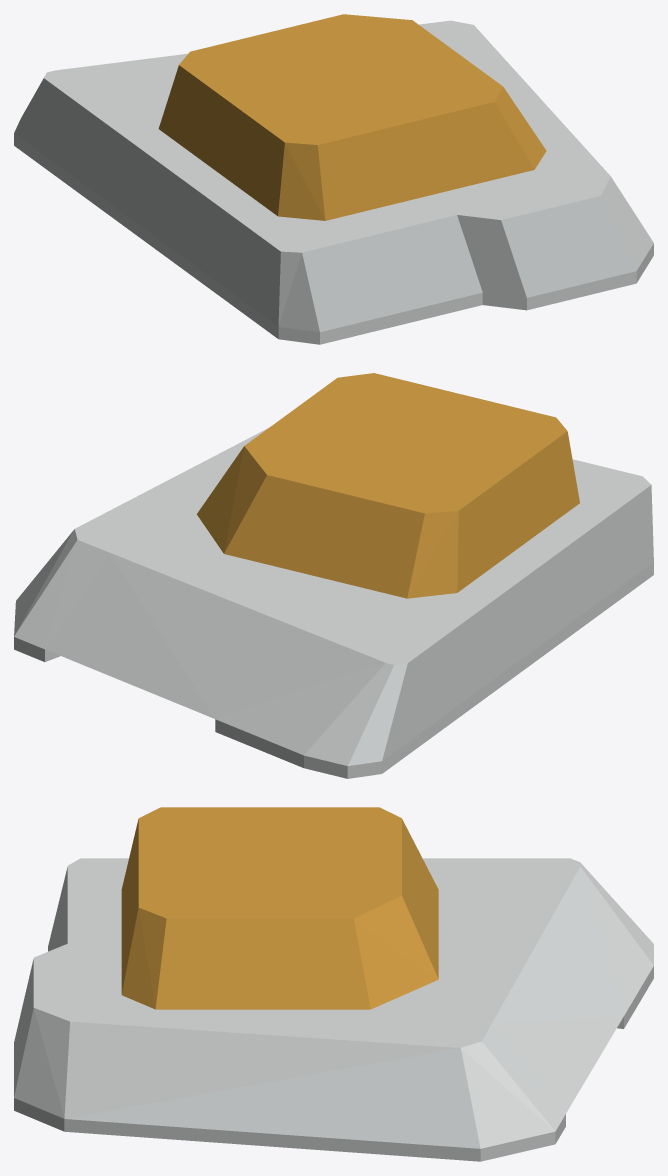
File: rx78_object_027-lib.dae
The picture shows the model from 3 angles, top to bottom: view 1: azimuth 30°, elevation 25°; view 2: azimuth 150°, elevation 25°; view 3: azimuth 270°, elevation 25°; orthographic projection. The views are drawn at different scales.
Parts seen in each view (by area): view 1: rx78_object_027Mesh-node; view 2: rx78_object_027Mesh-node; view 3: rx78_object_027Mesh-node.
Boxes of the visible parts, box(x1,y1,x2,y2) form: rx78_object_027Mesh-node: box(14, 14, 653, 344); rx78_object_027Mesh-node: box(14, 373, 653, 778); rx78_object_027Mesh-node: box(14, 807, 653, 1161).
Size of the model in its own units: 17.96 by 6.32 by 22.6.
